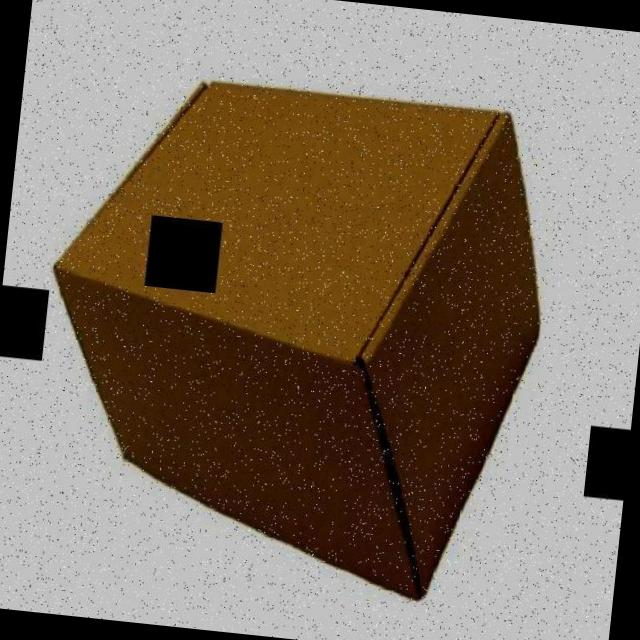box: (18, 55, 564, 614)
